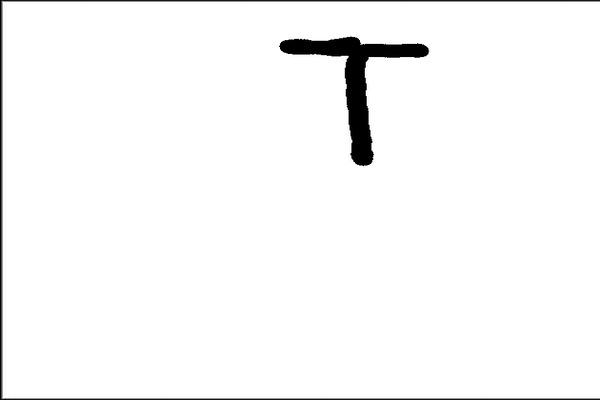T: (271, 30, 439, 170)
